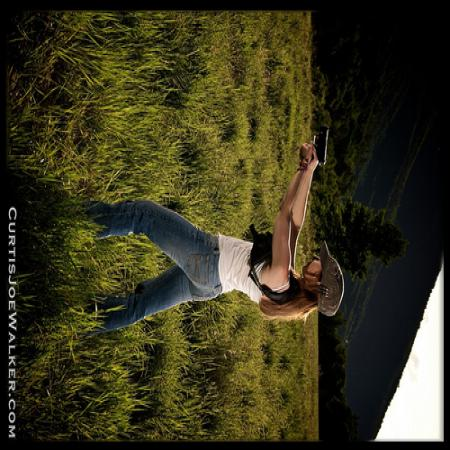Pistol: (301, 126, 333, 165)
